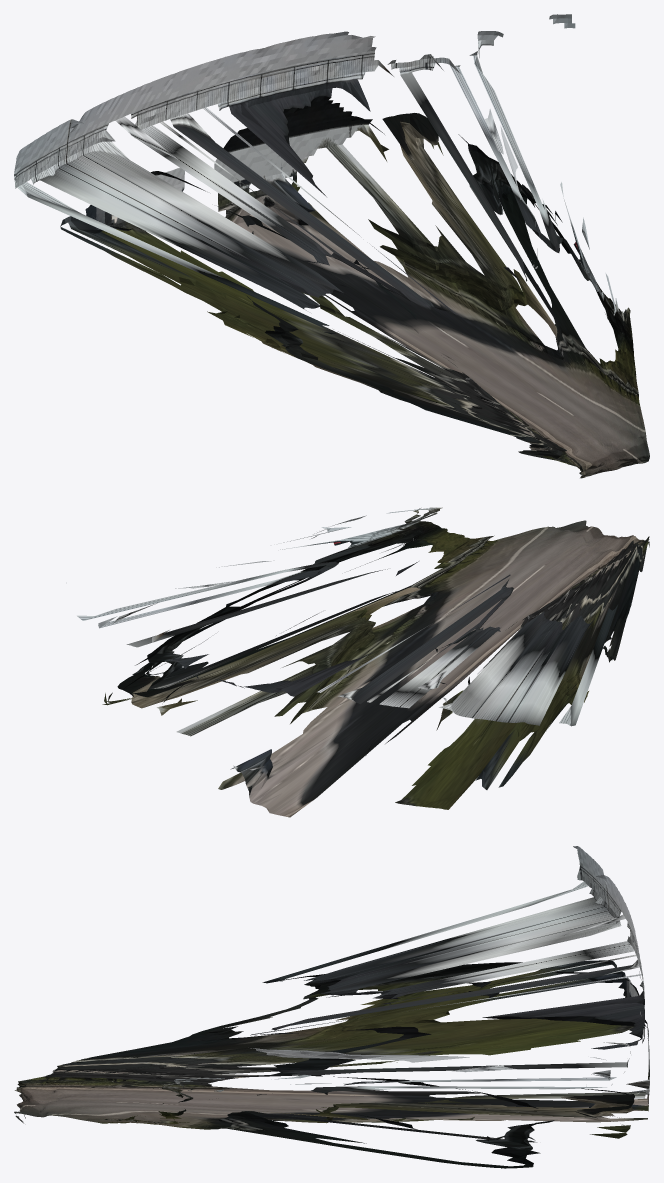
3 renders of one model, top to bottom at view 1: azimuth 30°, elevation 25°; view 2: azimuth 150°, elevation 25°; view 3: azimuth 270°, elevation 25°, orthographic. The views are drawn at different scales.
Visible parts, largest first — view 1: defaultobject; view 2: defaultobject; view 3: defaultobject.
Boxes of the visible parts, bbox=[...] form: defaultobject: bbox=[14, 14, 649, 478]; defaultobject: bbox=[77, 507, 649, 817]; defaultobject: bbox=[14, 846, 649, 1168].
Bounding box in the file's own units: 40.25 × 12.29 × 44.55.
1 material, 1 textured.
